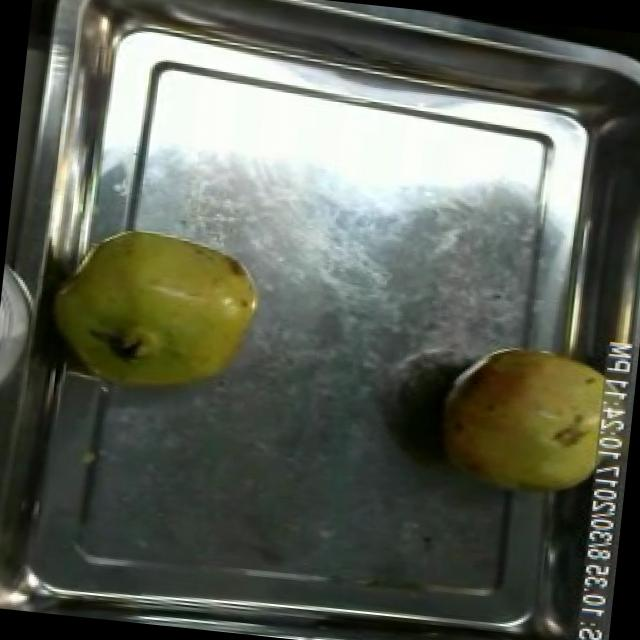fruit: (36, 208, 284, 418), (426, 331, 628, 510)
